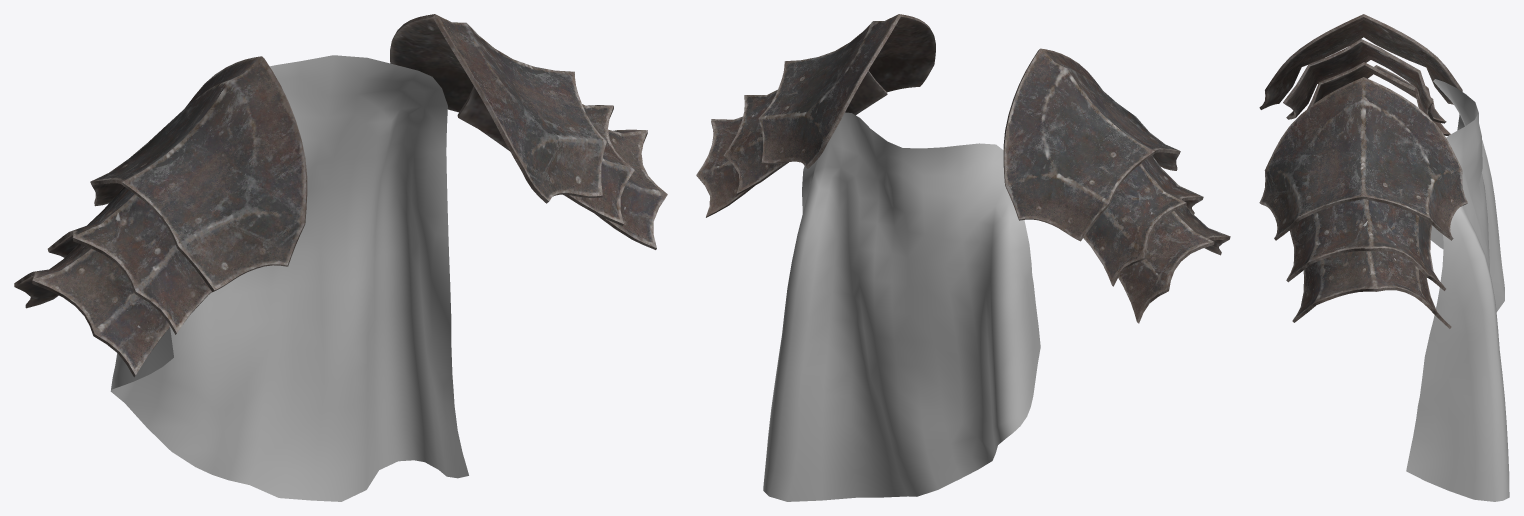
File: sk_dg_uruk_pauldron_elite_cape_d.fbx
The picture shows the model from 3 angles, left to right: view 1: azimuth 30°, elevation 25°; view 2: azimuth 150°, elevation 25°; view 3: azimuth 270°, elevation 25°; orthographic projection. The views are drawn at different scales.
Visible parts, largest first — view 1: sk_dg_uruk_pauldron_elite_cape_d.cape, sk_dg_uruk_pauldron_elite_cape_d; view 2: sk_dg_uruk_pauldron_elite_cape_d.cape, sk_dg_uruk_pauldron_elite_cape_d; view 3: sk_dg_uruk_pauldron_elite_cape_d, sk_dg_uruk_pauldron_elite_cape_d.cape.
Part boxes in pixels (x1,y1,x2,y2): sk_dg_uruk_pauldron_elite_cape_d.cape: [110, 55, 468, 501]; sk_dg_uruk_pauldron_elite_cape_d: [14, 14, 667, 377]; sk_dg_uruk_pauldron_elite_cape_d.cape: [763, 112, 1040, 501]; sk_dg_uruk_pauldron_elite_cape_d: [696, 14, 1230, 323]; sk_dg_uruk_pauldron_elite_cape_d: [1259, 14, 1467, 328]; sk_dg_uruk_pauldron_elite_cape_d.cape: [1406, 79, 1509, 501].
Size of the model in its own units: 0.8761 by 0.4133 by 0.7329.
